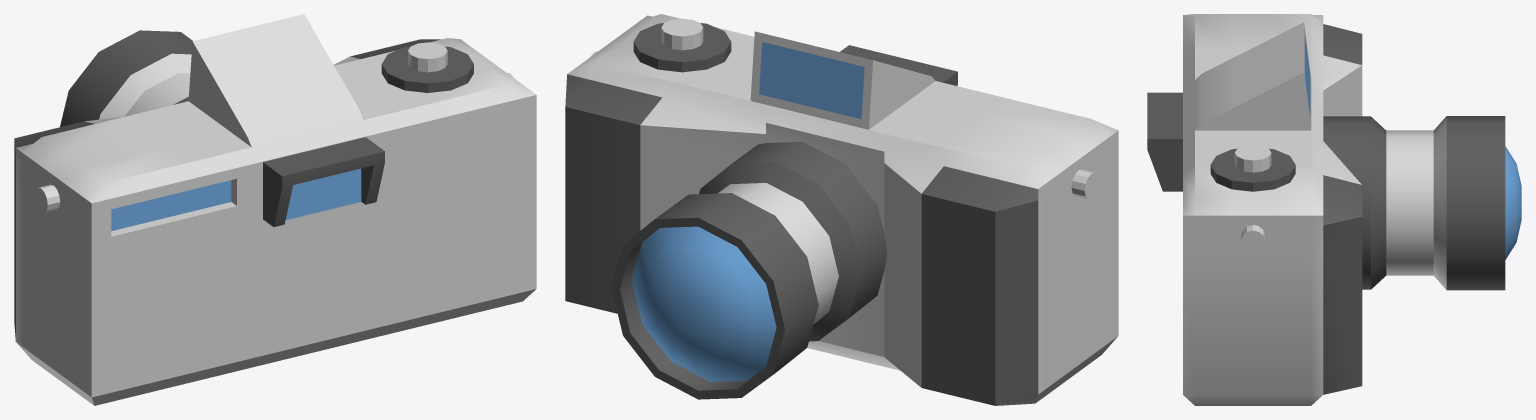
File: Camera.fbx
3 renders of one model, left to right at view 1: azimuth 30°, elevation 25°; view 2: azimuth 150°, elevation 25°; view 3: azimuth 270°, elevation 25°, orthographic. The views are drawn at different scales.
Parts seen in each view (by area): view 1: Cube; view 2: Cube; view 3: Cube.
Boxes of the visible parts, x1,y1,x2,y2 form: Cube: [14, 14, 536, 405]; Cube: [565, 14, 1118, 405]; Cube: [1147, 14, 1521, 405].
Bounding box in the file's own units: 21.53 × 12.4 × 16.09.
